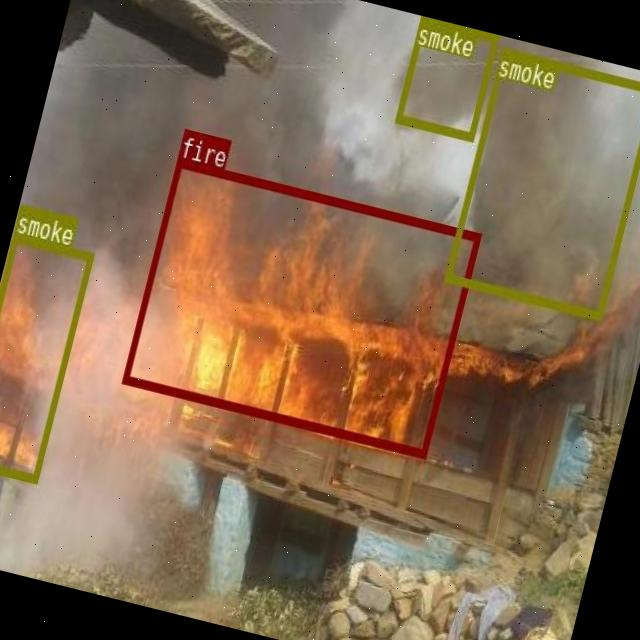fire: (122, 157, 481, 456)
smoke: (443, 47, 640, 320), (0, 232, 93, 482), (394, 15, 498, 140)
